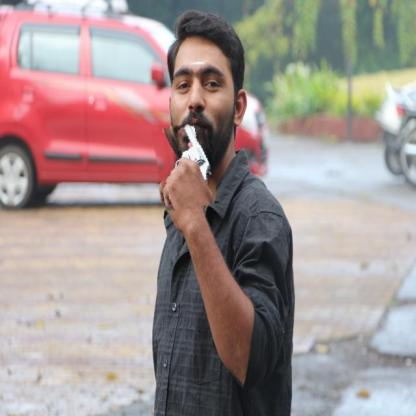handgun: (154, 122, 216, 211)
